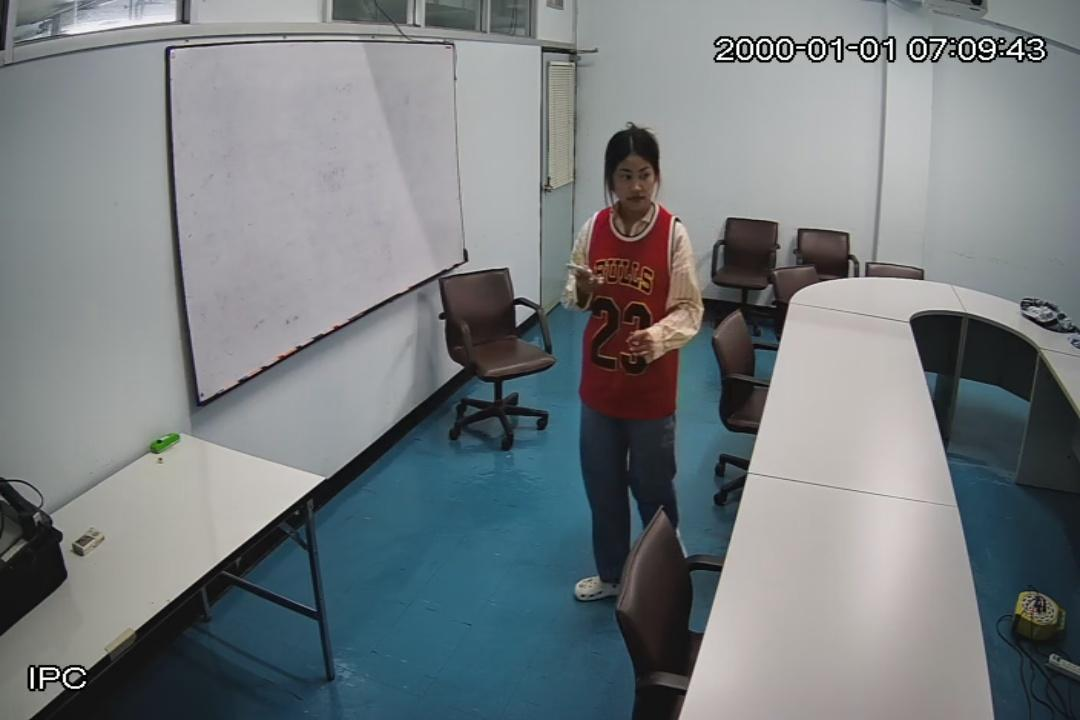normal: (561, 128, 701, 608)
